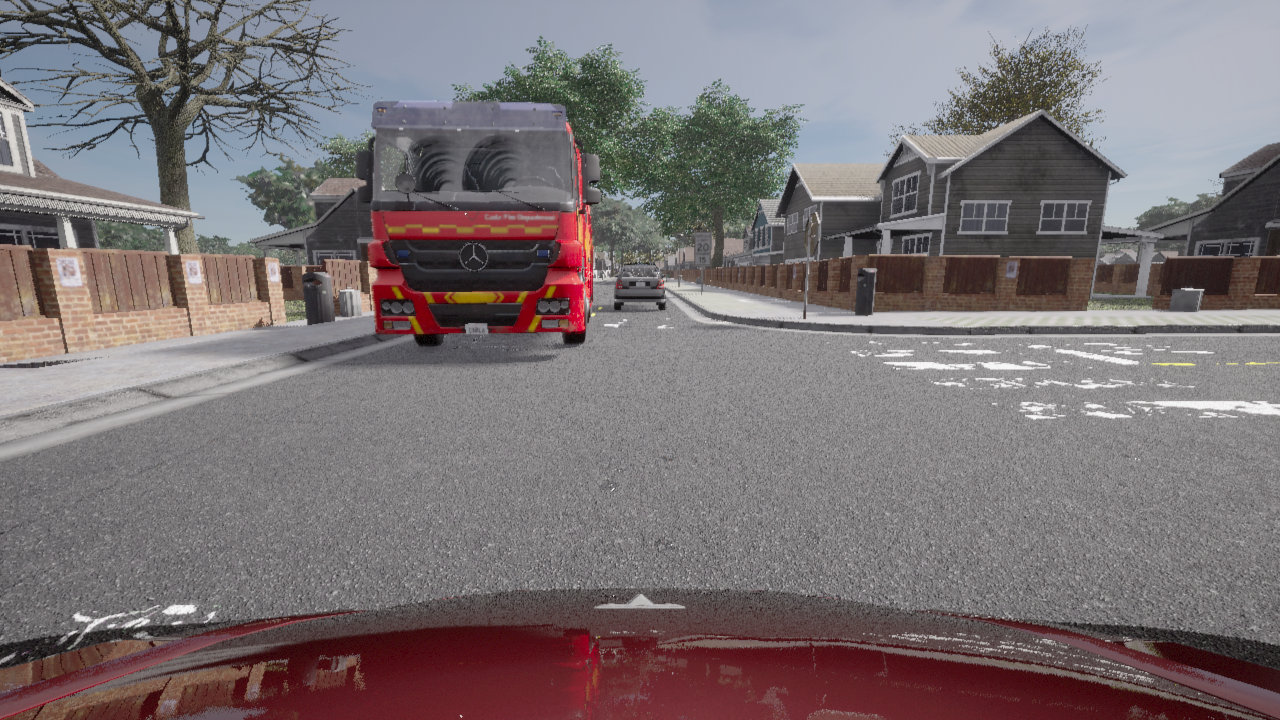cyclist: (0, 588, 1279, 719), (356, 100, 600, 345), (614, 263, 665, 310)
